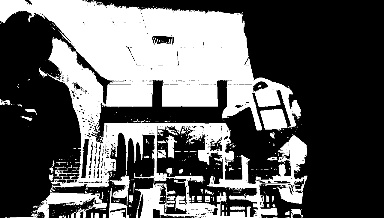H: (248, 86, 296, 129)
